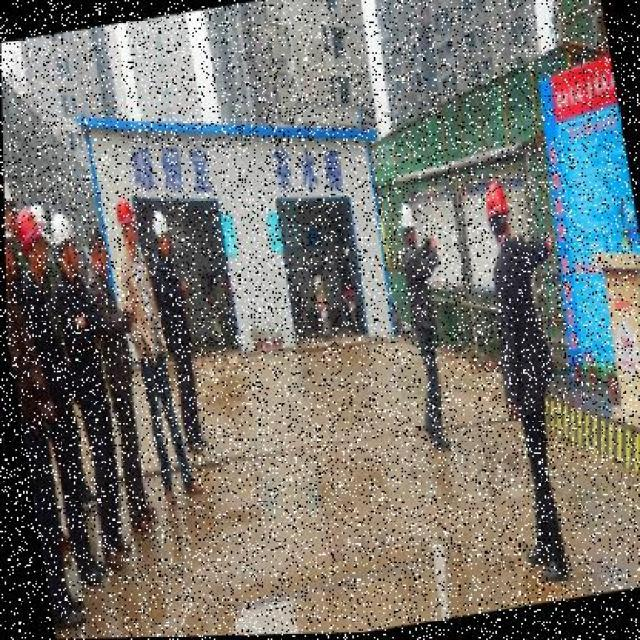helmet: (479, 177, 512, 223), (392, 199, 418, 244)
